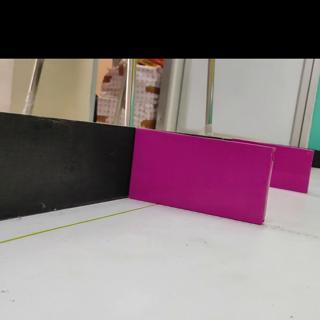xparking: (129, 128, 273, 225), (269, 144, 315, 194)
